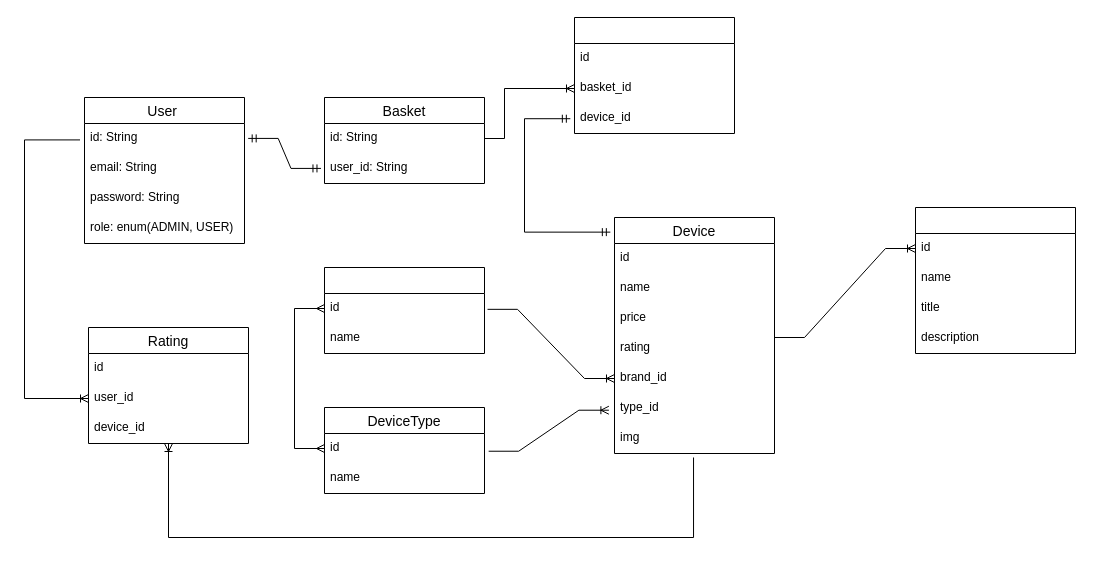
Some shapes in this 1093 by 563 pixel diagram are drawn without their labels. Here are the shapes that lost their labels. From the top down, the box of each, then its label:
(574, 16, 734, 134): BasketDevice
(914, 206, 1076, 354): DeviceInfo
(324, 266, 484, 354): Brand
